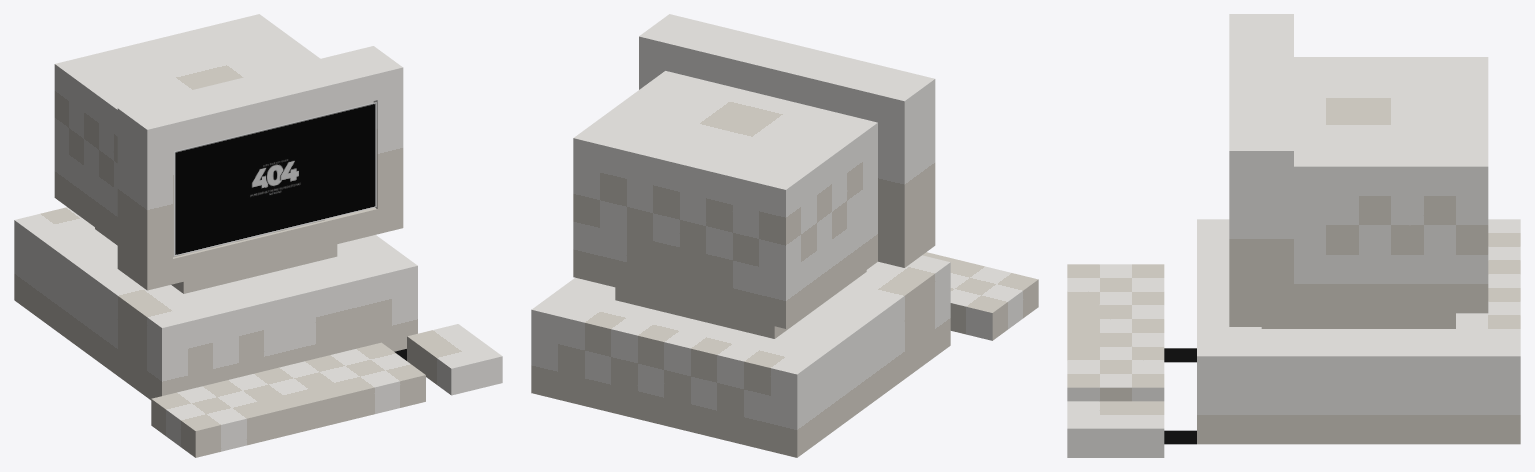
File: Error404.glb
The picture shows the model from 3 angles, left to right: view 1: azimuth 30°, elevation 25°; view 2: azimuth 150°, elevation 25°; view 3: azimuth 270°, elevation 25°; orthographic projection. The views are drawn at different scales.
Visible parts, largest first — view 1: screen_0, computer_3, moniter_1, keyboard_4, mouse_5, stand_2; view 2: moniter_1, computer_3, screen_0, keyboard_4, stand_2; view 3: moniter_1, computer_3, screen_0, keyboard_4, mouse_5, stand_2, wire_6, wire_7.
Part boxes in pixels (bbox=[...]): screen_0: bbox=[117, 46, 403, 290]; computer_3: bbox=[14, 207, 417, 400]; moniter_1: bbox=[54, 14, 347, 243]; keyboard_4: bbox=[151, 342, 425, 457]; mouse_5: bbox=[407, 324, 502, 395]; stand_2: bbox=[95, 227, 337, 293]; moniter_1: bbox=[573, 71, 877, 328]; computer_3: bbox=[531, 255, 950, 457]; screen_0: bbox=[639, 14, 935, 267]; keyboard_4: bbox=[922, 252, 1038, 340]; stand_2: bbox=[615, 270, 866, 338]; moniter_1: bbox=[1294, 57, 1488, 313]; computer_3: bbox=[1197, 219, 1520, 444]; screen_0: bbox=[1229, 14, 1293, 326]; keyboard_4: bbox=[1067, 264, 1164, 401]; mouse_5: bbox=[1067, 401, 1164, 457]; stand_2: bbox=[1261, 313, 1455, 328]; wire_6: bbox=[1164, 348, 1196, 362]; wire_7: bbox=[1164, 430, 1196, 444].
Bounding box in the file's own units: 0.75 × 0.625 × 0.875.
Materials: 2 (2 with a texture image).
